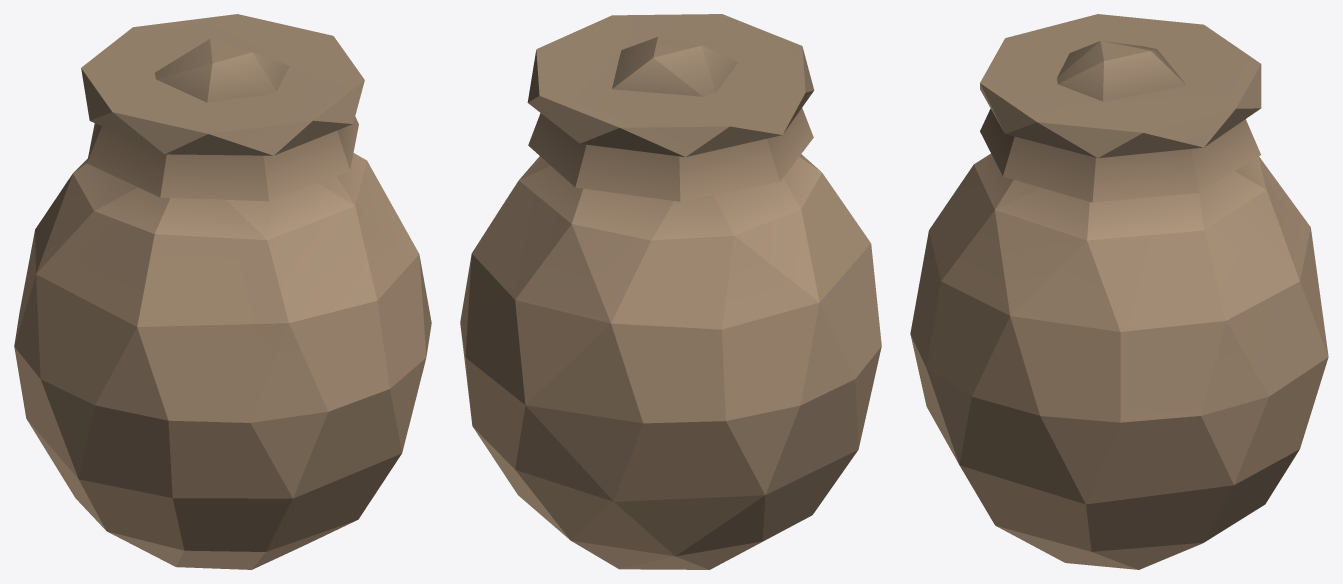
File: furn_onggi__brown_low.glb
3 renders of one model, left to right at view 1: azimuth 30°, elevation 25°; view 2: azimuth 150°, elevation 25°; view 3: azimuth 270°, elevation 25°, orthographic.
Size of the model in its own units: 0.6 by 0.7922 by 0.5969.
